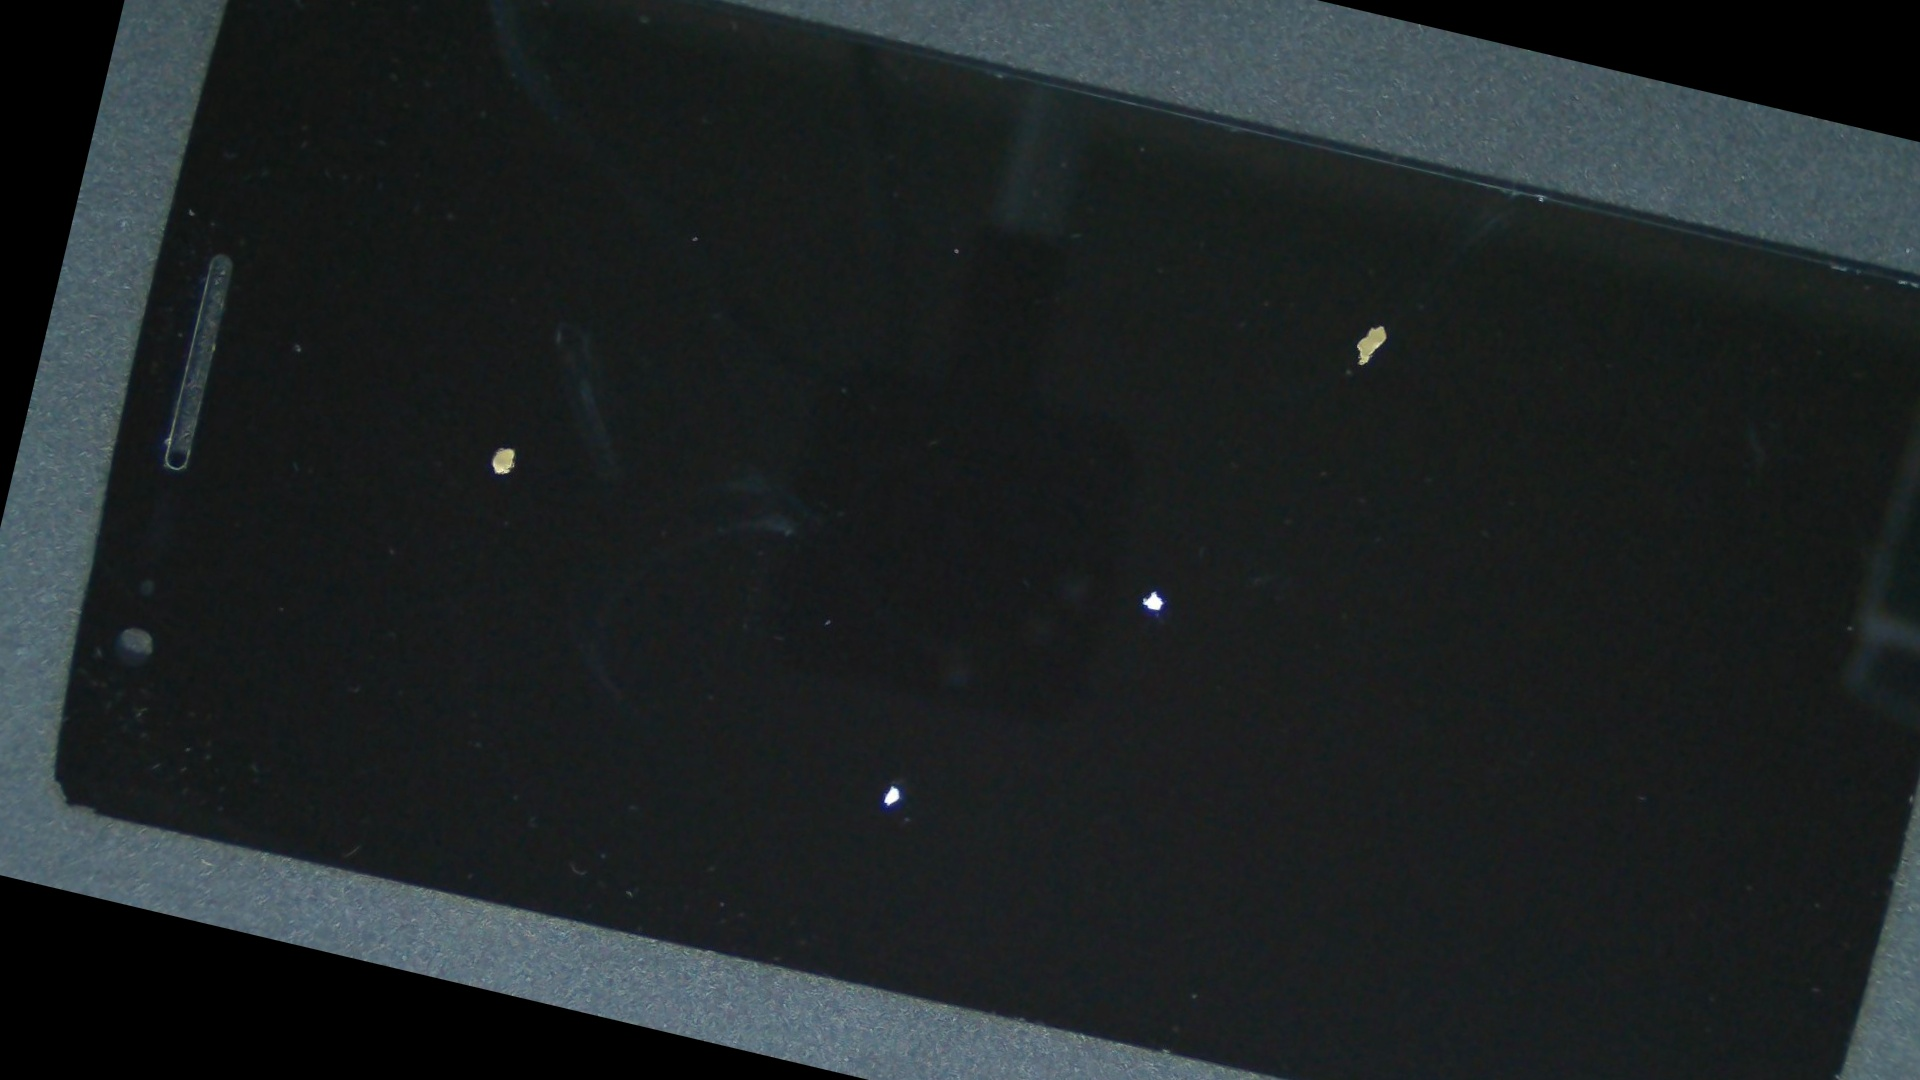oil: (531, 161, 1779, 1018), (375, 258, 1441, 1080), (716, 28, 1920, 621), (206, 90, 811, 803)
